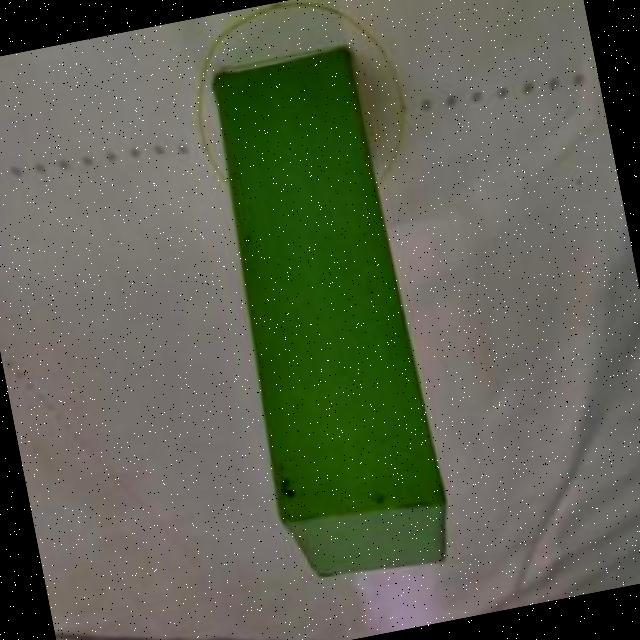greenbox: (194, 41, 459, 590)
